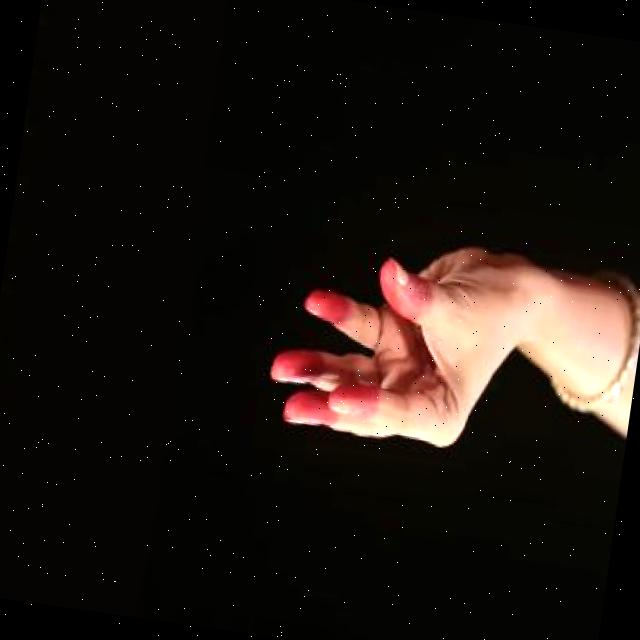Padmakosha: (245, 163, 572, 520)
